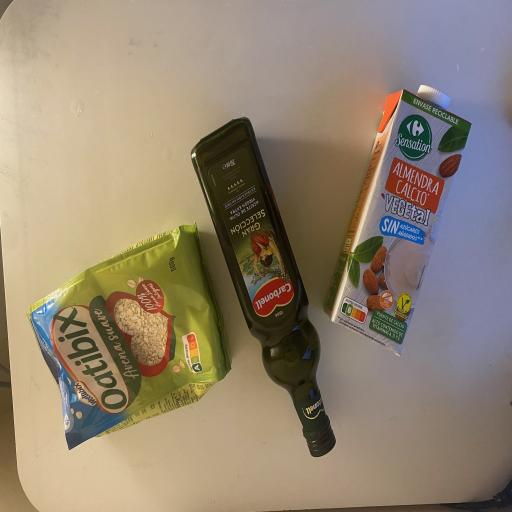almond_milk: (326, 80, 472, 358)
oats: (34, 221, 230, 445)
olive_oil: (187, 112, 337, 461)
